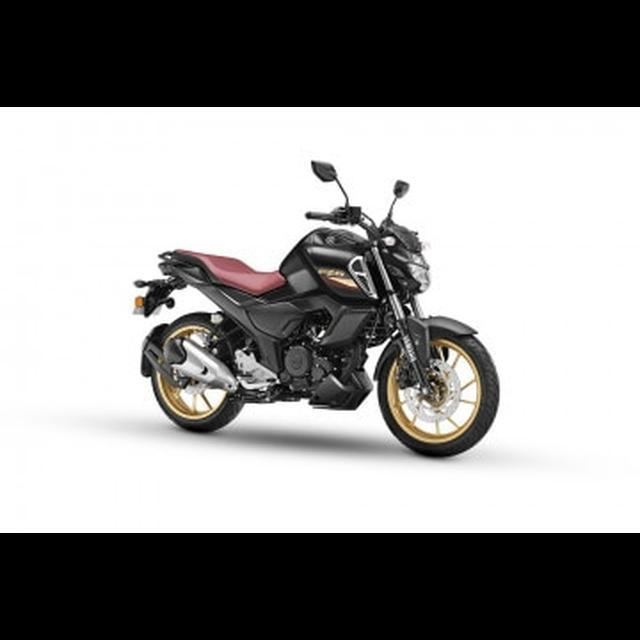motorcycle: (125, 153, 505, 465)
